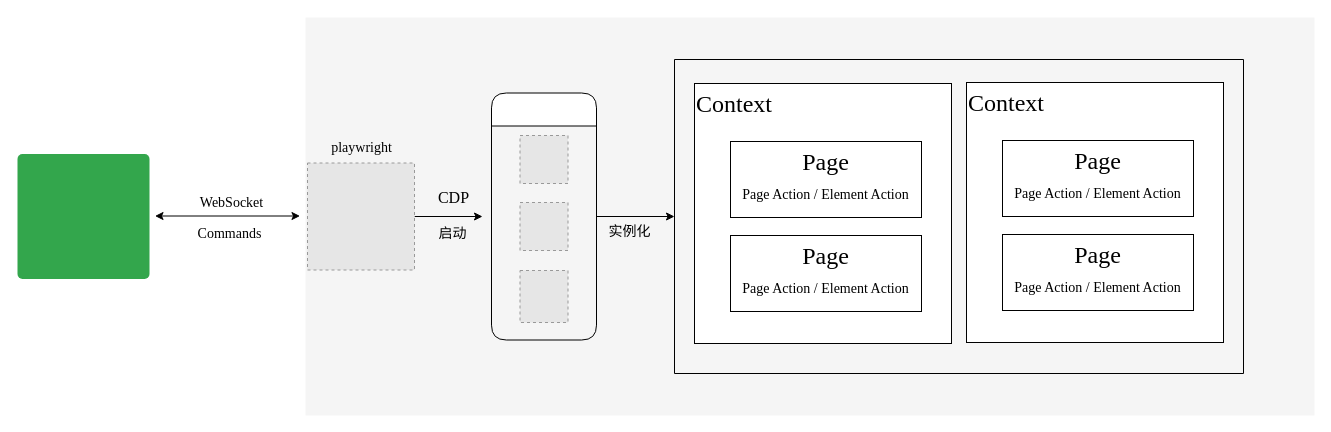
This 1331x432 diagram has some shape labels left out. Grey dashed boxes stand in for pictures. Here are the shapes that lost their labels. From the top down, the box of each, then its label:
(17, 154, 149, 278): Tests in @playwright/test
(490, 92, 596, 340): 浏览器
